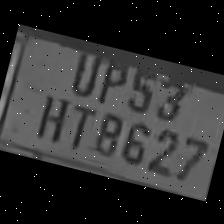2: (141, 120, 182, 176)
3: (150, 69, 190, 122)
5: (120, 58, 160, 114)
6: (116, 112, 154, 166)
7: (168, 127, 210, 185)
8: (84, 103, 125, 159)
H: (28, 86, 70, 142)
P: (91, 49, 133, 107)
T: (58, 96, 99, 150)
U: (64, 39, 106, 97)
